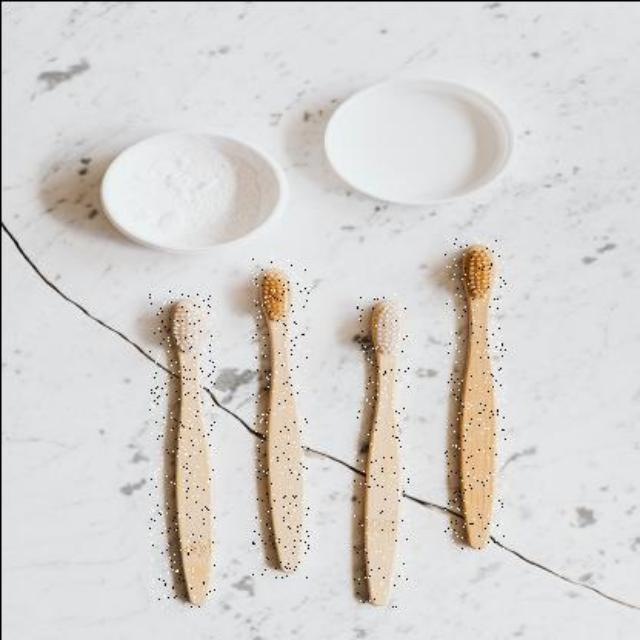toothbrush: (148, 288, 214, 606), (444, 236, 504, 552), (251, 256, 307, 576), (352, 290, 408, 606)
